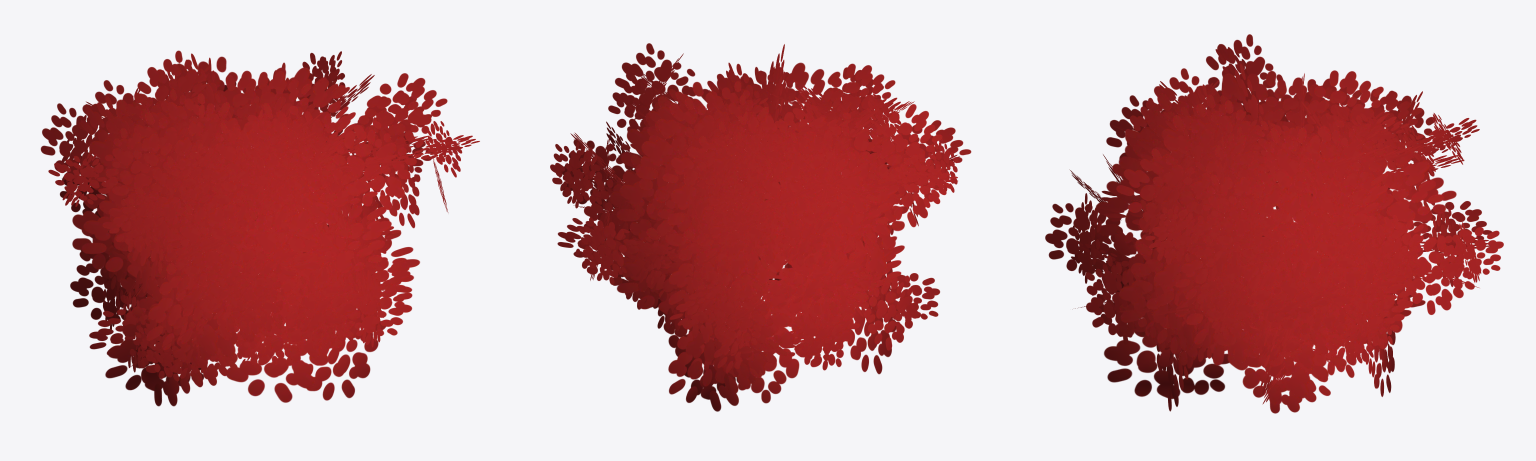
The model's file is Bush.glb.
3 renders of one model, left to right at view 1: azimuth 30°, elevation 25°; view 2: azimuth 150°, elevation 25°; view 3: azimuth 270°, elevation 25°, orthographic. The views are drawn at different scales.
Parts seen in each view (by area): view 1: Bush_Common; view 2: Bush_Common; view 3: Bush_Common.
Boxes of the visible parts, <box> form: Bush_Common: <box>40,50,479,406</box>; Bush_Common: <box>550,43,971,411</box>; Bush_Common: <box>1045,34,1503,413</box>.
Bounding box in the file's own units: 1.91 × 1.58 × 1.97.
1 material, 1 textured.
